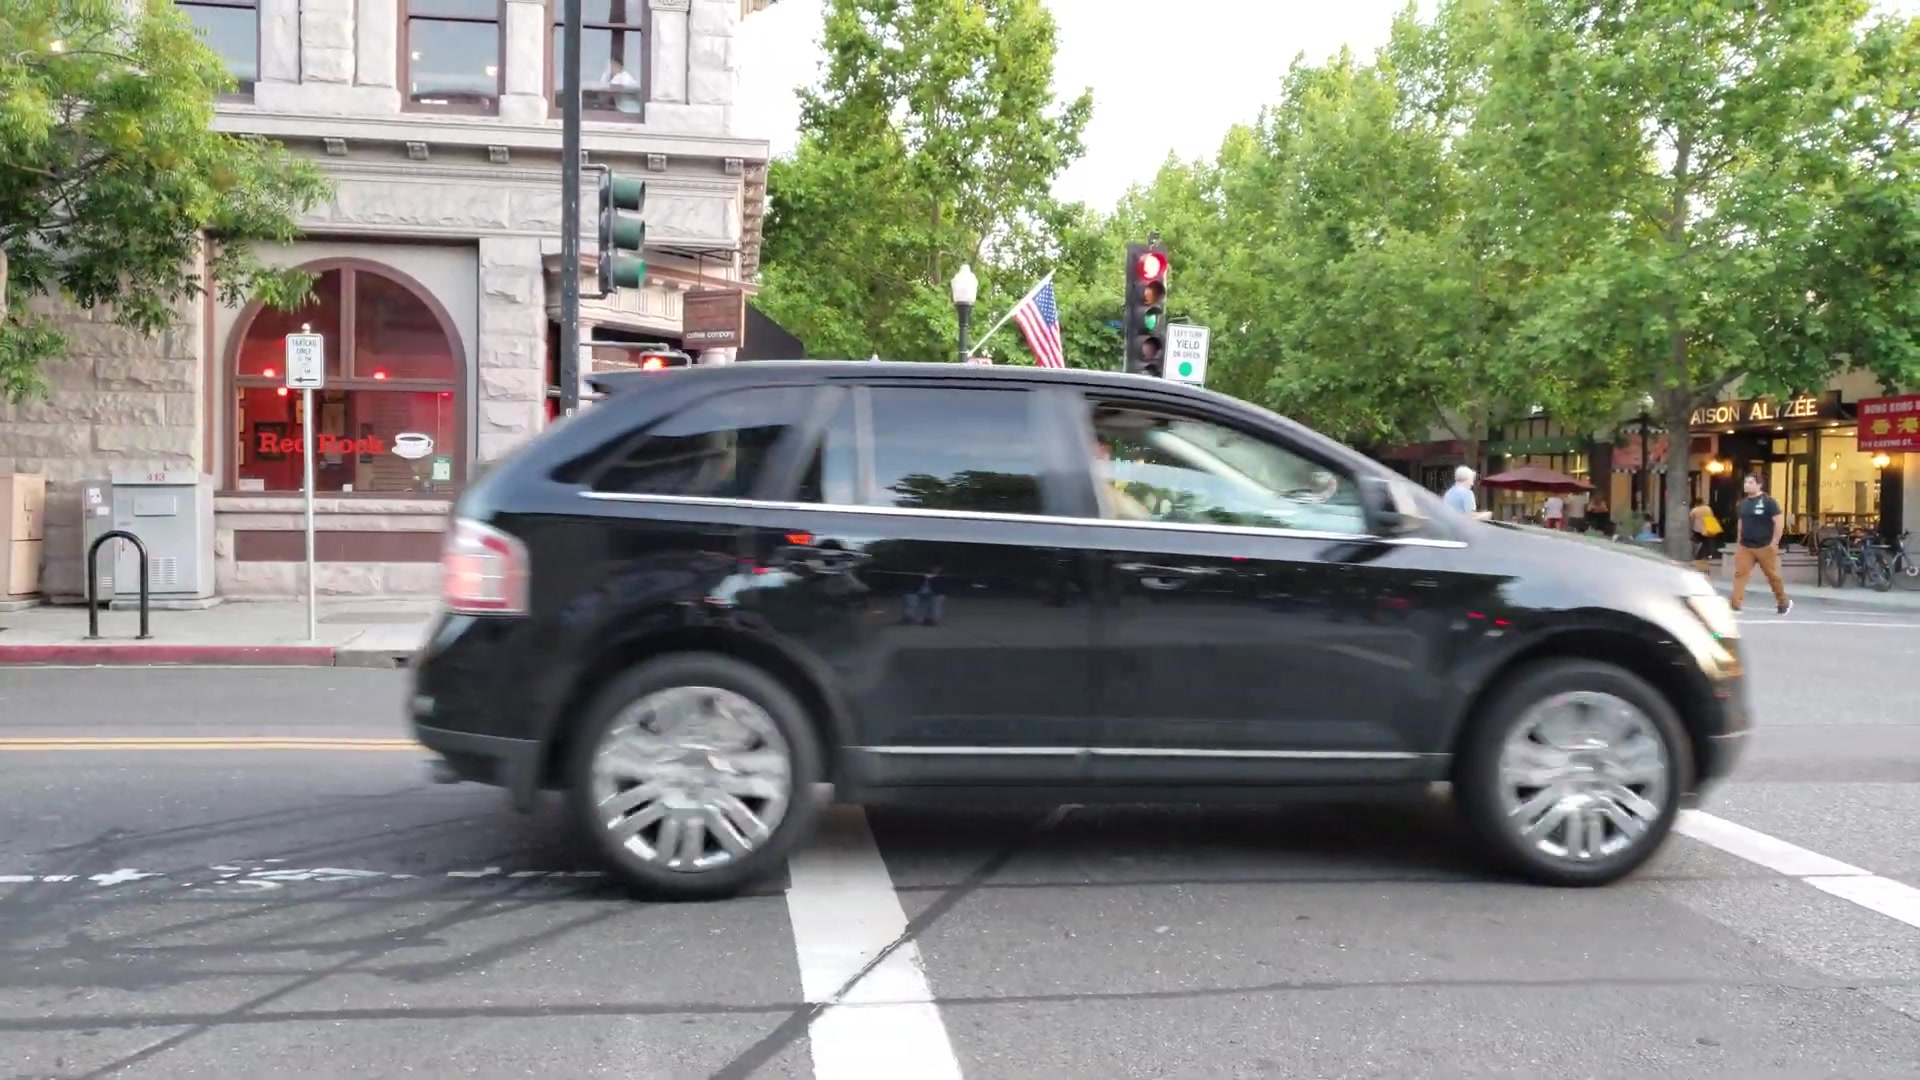vehicle: (411, 353, 1760, 891)
